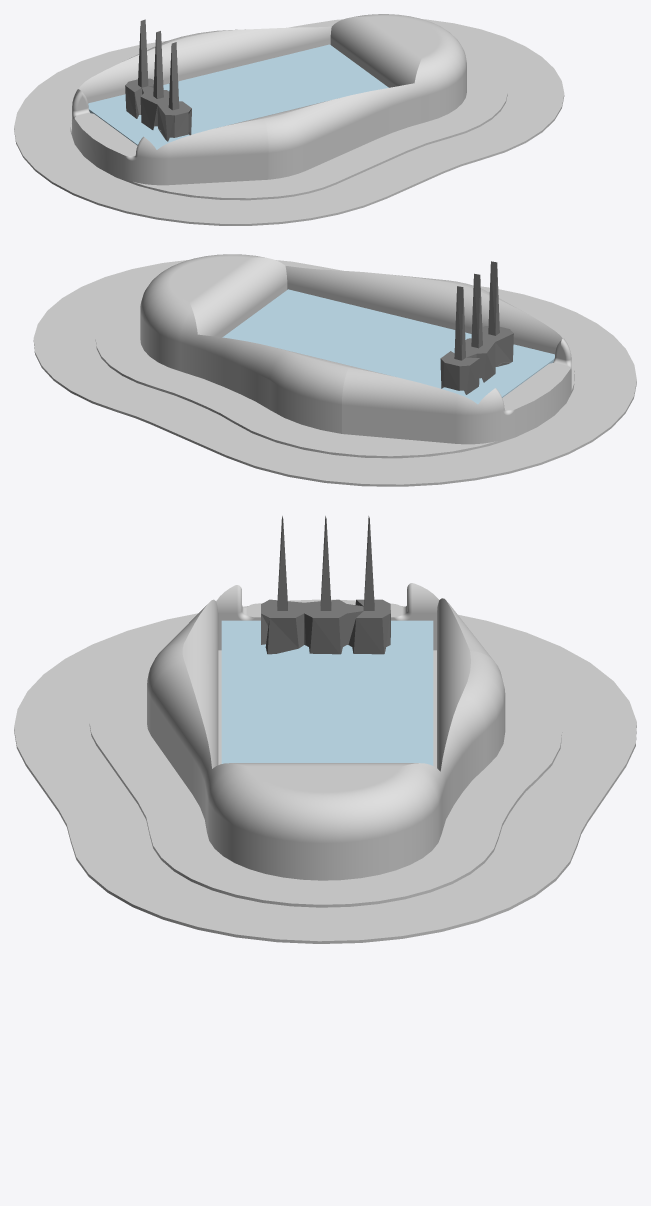
File: sticky.dae
The picture shows the model from 3 angles, top to bottom: view 1: azimuth 30°, elevation 25°; view 2: azimuth 150°, elevation 25°; view 3: azimuth 270°, elevation 25°; orthographic projection. The views are drawn at different scales.
Parts seen in each view (by area): view 1: Part 1, Part 5, ID456, ID583, ID695, ID646; view 2: Part 1, Part 5, ID456, ID646, ID583, ID695; view 3: Part 1, Part 5, ID456.
Boxes of the visible parts, bbox=[...] form: Part 1: bbox=[14, 14, 564, 225]; Part 5: bbox=[88, 44, 388, 149]; ID456: bbox=[125, 78, 191, 141]; ID583: bbox=[138, 19, 148, 87]; ID695: bbox=[153, 31, 163, 98]; ID646: bbox=[168, 42, 179, 110]; Part 1: bbox=[33, 254, 636, 486]; Part 5: bbox=[222, 289, 554, 404]; ID456: bbox=[440, 326, 513, 394]; ID646: bbox=[488, 261, 499, 335]; ID583: bbox=[454, 286, 465, 360]; ID695: bbox=[471, 273, 482, 348]; Part 1: bbox=[14, 583, 636, 943]; Part 5: bbox=[221, 620, 433, 765]; ID456: bbox=[261, 599, 390, 654].
Size of the model in its own units: 0.0576 by 0.0392 by 0.0255.
